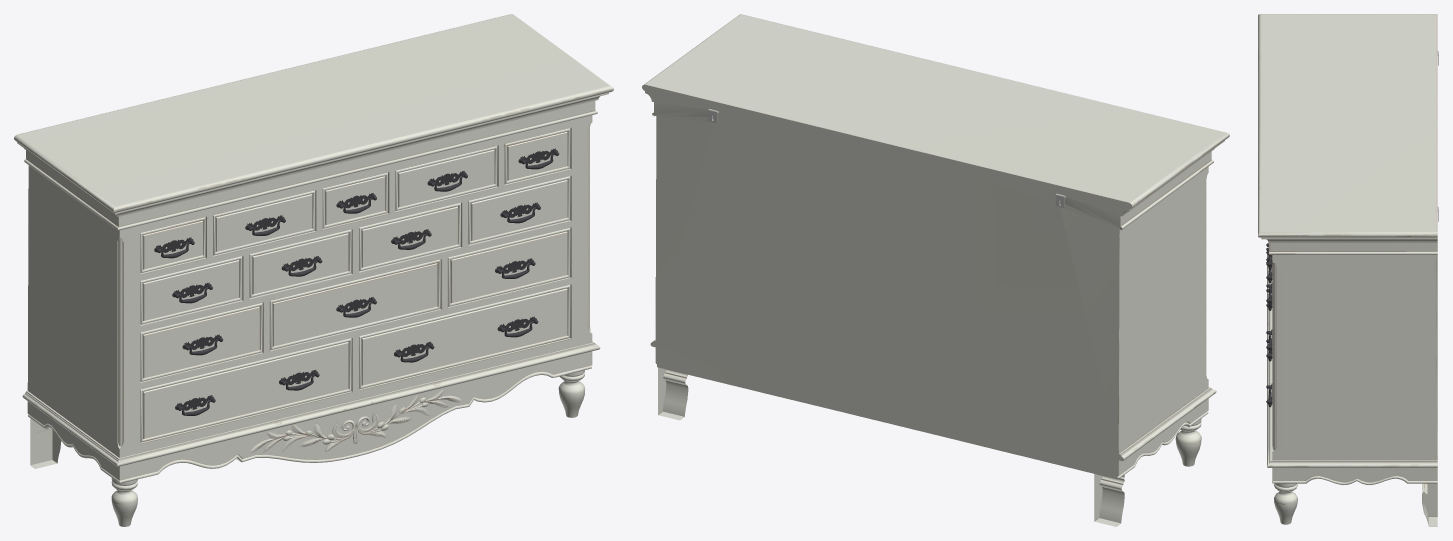
File: example144.glb
3 views of the same model, side by side, from view 1: azimuth 30°, elevation 25°; view 2: azimuth 150°, elevation 25°; view 3: azimuth 270°, elevation 25° (orthographic). The views are drawn at different scales.
Visible parts, largest first — view 1: PPA5.paint, PPA5.metal; view 2: PPA5.paint; view 3: PPA5.paint, PPA5.metal.
Boxes of the visible parts, x1,y1,x2,y2 form: PPA5.paint: (14,14,613,526); PPA5.metal: (154,148,559,415); PPA5.paint: (642,14,1229,526); PPA5.paint: (1258,14,1437,526); PPA5.metal: (1266,243,1272,407).
Size of the model in its own units: 1.45 by 0.925 by 0.5038.
3 materials, 2 textured.
